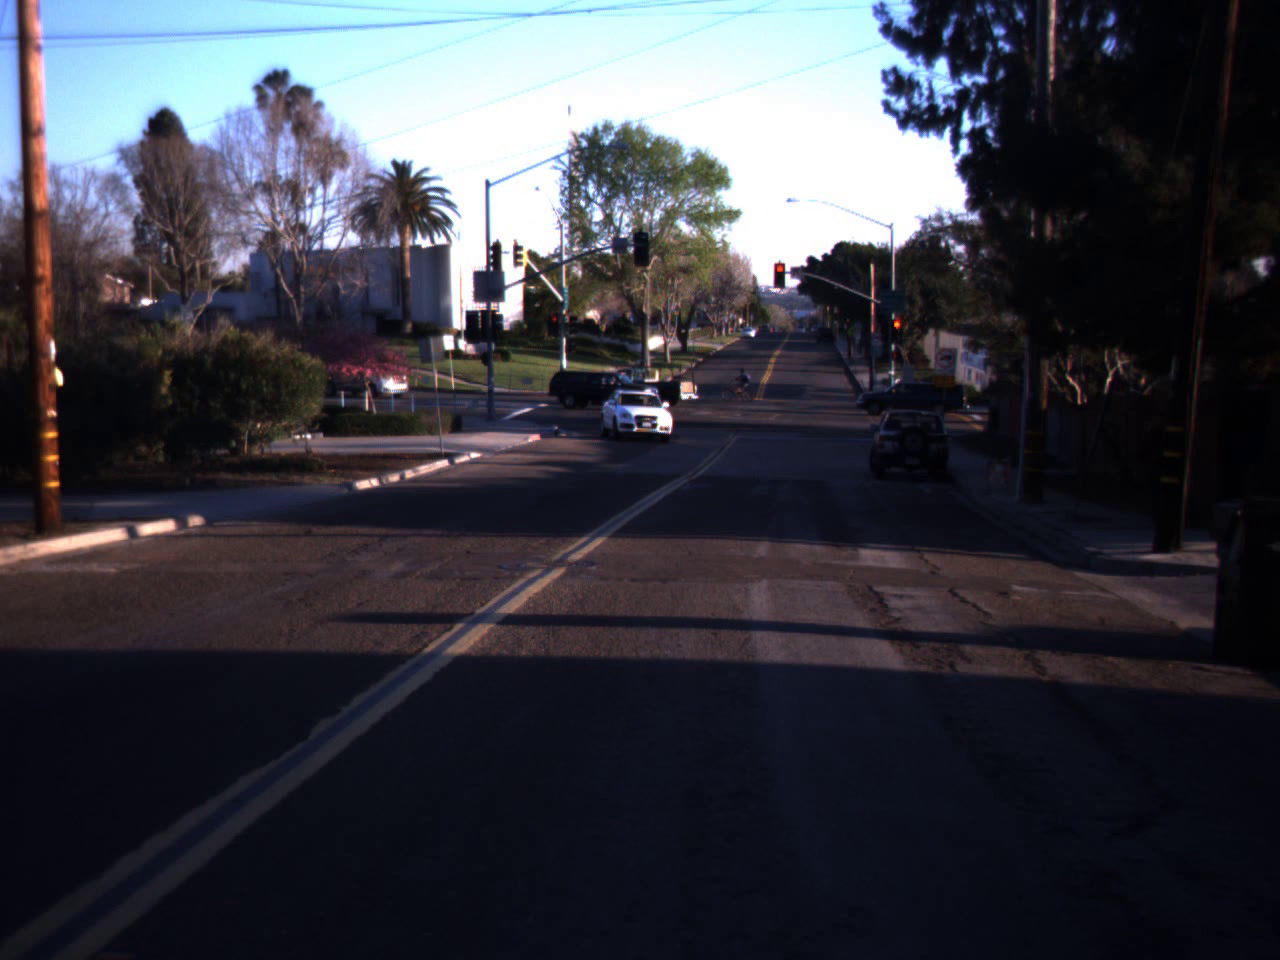stop: (888, 315, 906, 355), (773, 263, 788, 285), (548, 314, 560, 336)
